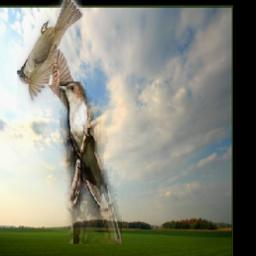Cuckoo: (59, 83, 121, 245)
Sparrow: (17, 0, 82, 124)
